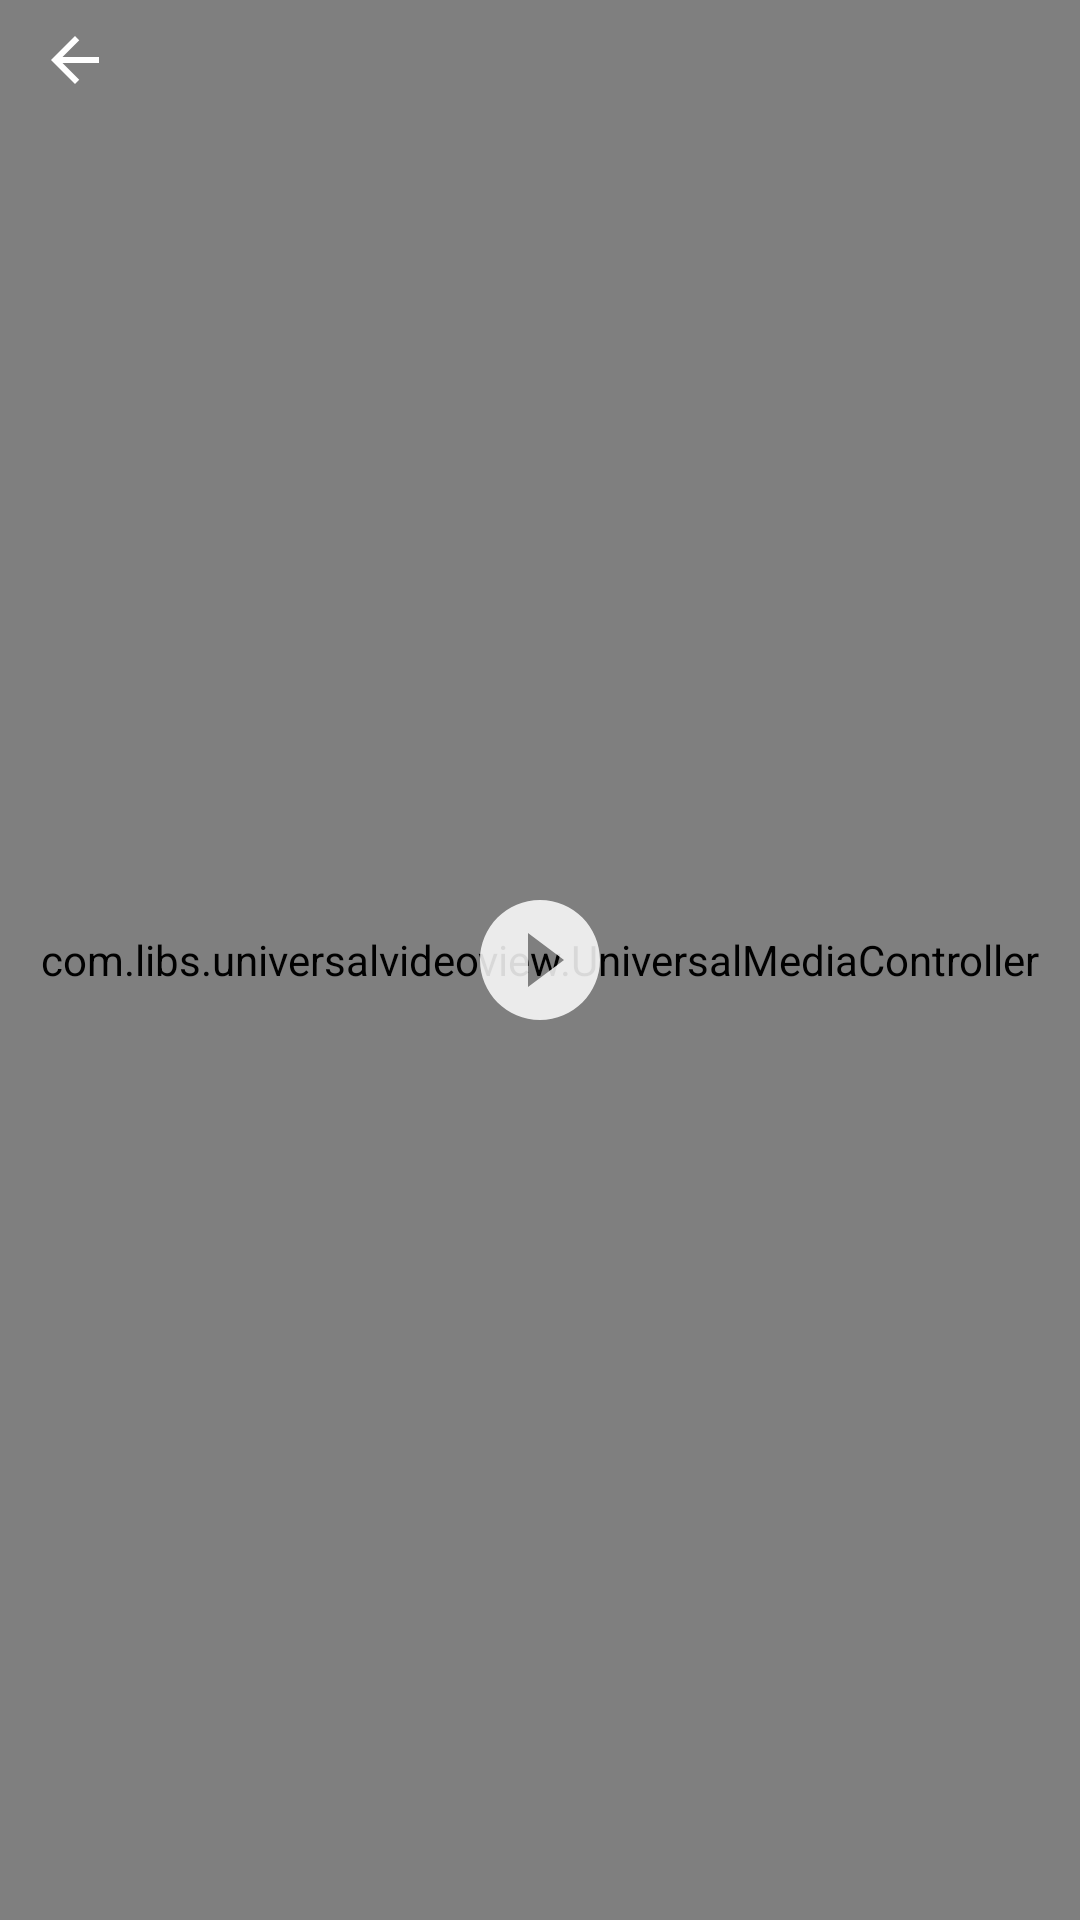

Locate icon controls on the screen. Image size 1080px x 1920px, boxes as (x1, y1, x2, y2).
arrow back: (51, 36, 99, 84)
